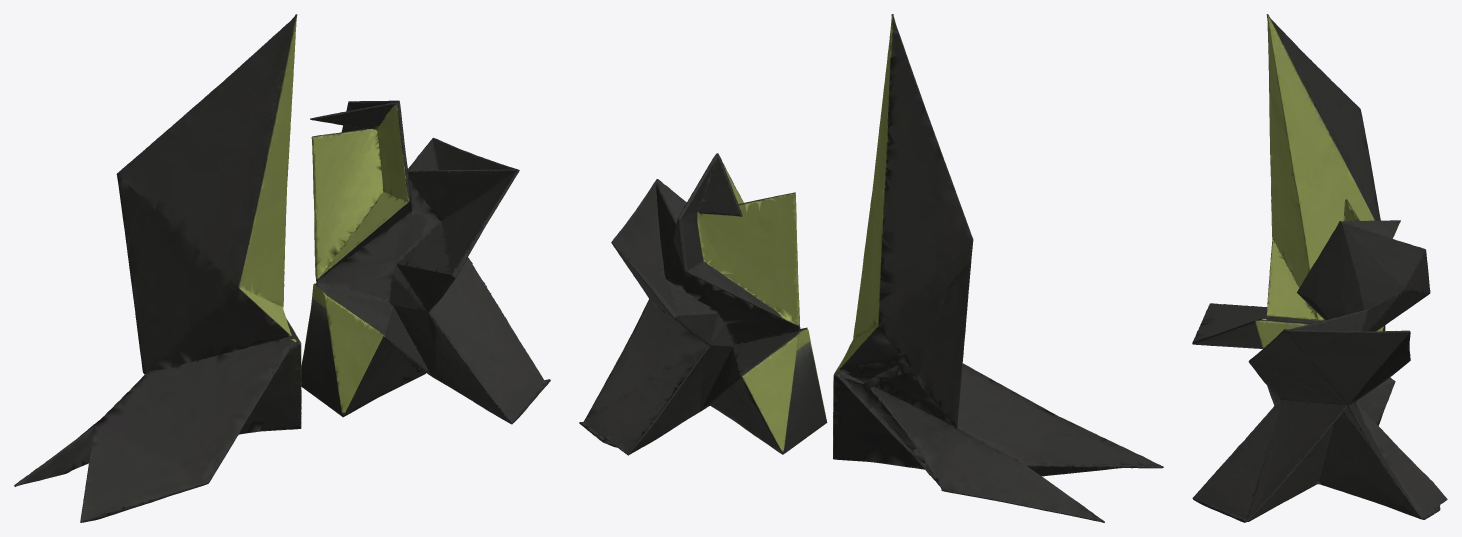
Rendered from permission-fold.glb.
3 renders of one model, left to right at view 1: azimuth 30°, elevation 25°; view 2: azimuth 150°, elevation 25°; view 3: azimuth 270°, elevation 25°, orthographic. The views are drawn at different scales.
Parts seen in each view (by area): view 1: tripo_node_d6b25825-8408-413a-8a11-c7ca509ee728; view 2: tripo_node_d6b25825-8408-413a-8a11-c7ca509ee728; view 3: tripo_node_d6b25825-8408-413a-8a11-c7ca509ee728.
Boxes of the visible parts, x1,y1,x2,y2 form: tripo_node_d6b25825-8408-413a-8a11-c7ca509ee728: [14, 14, 550, 522]; tripo_node_d6b25825-8408-413a-8a11-c7ca509ee728: [579, 14, 1163, 522]; tripo_node_d6b25825-8408-413a-8a11-c7ca509ee728: [1192, 14, 1447, 522].
Size of the model in its own units: 0.9821 by 0.8318 by 0.4647.
1 material, 1 textured.
